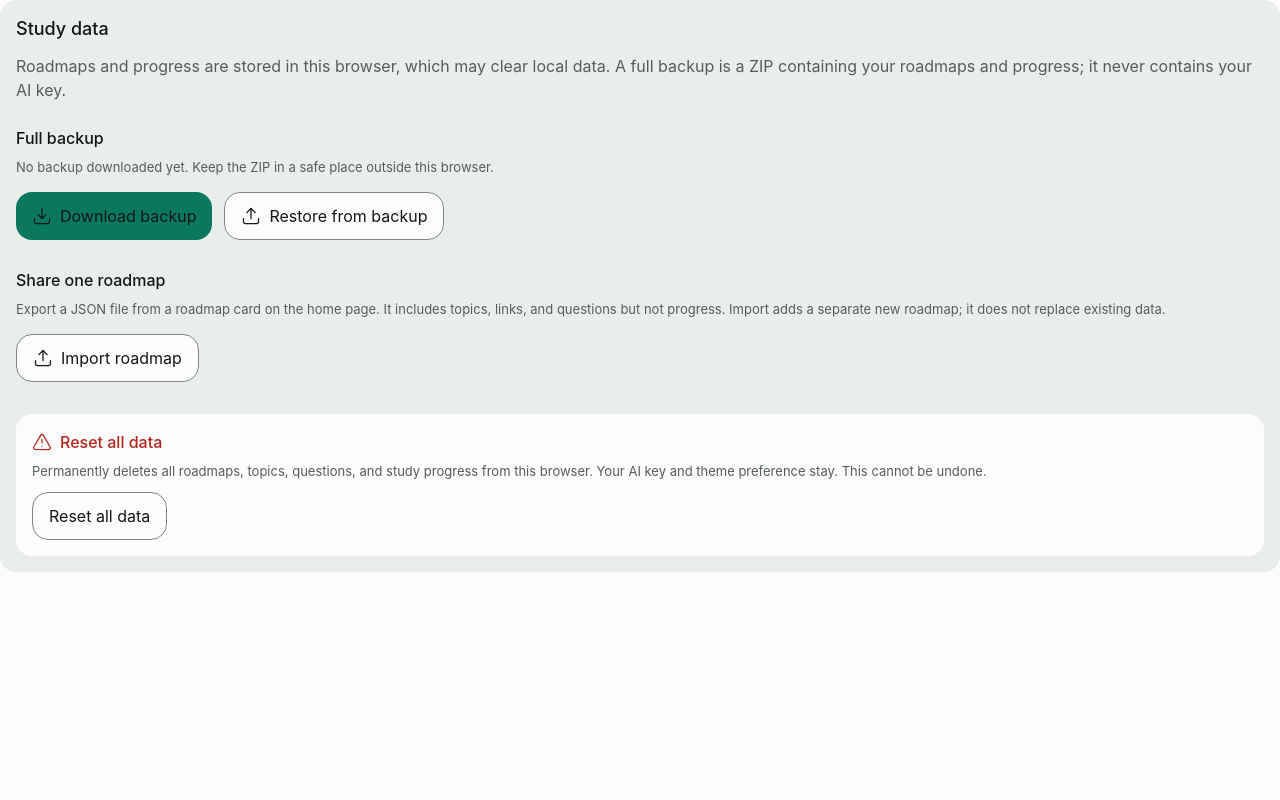
Test: SettingsPage › announces a backup failure and allows a retry
Click the button "Download backup": (114, 216) 16,192 -> 212,240
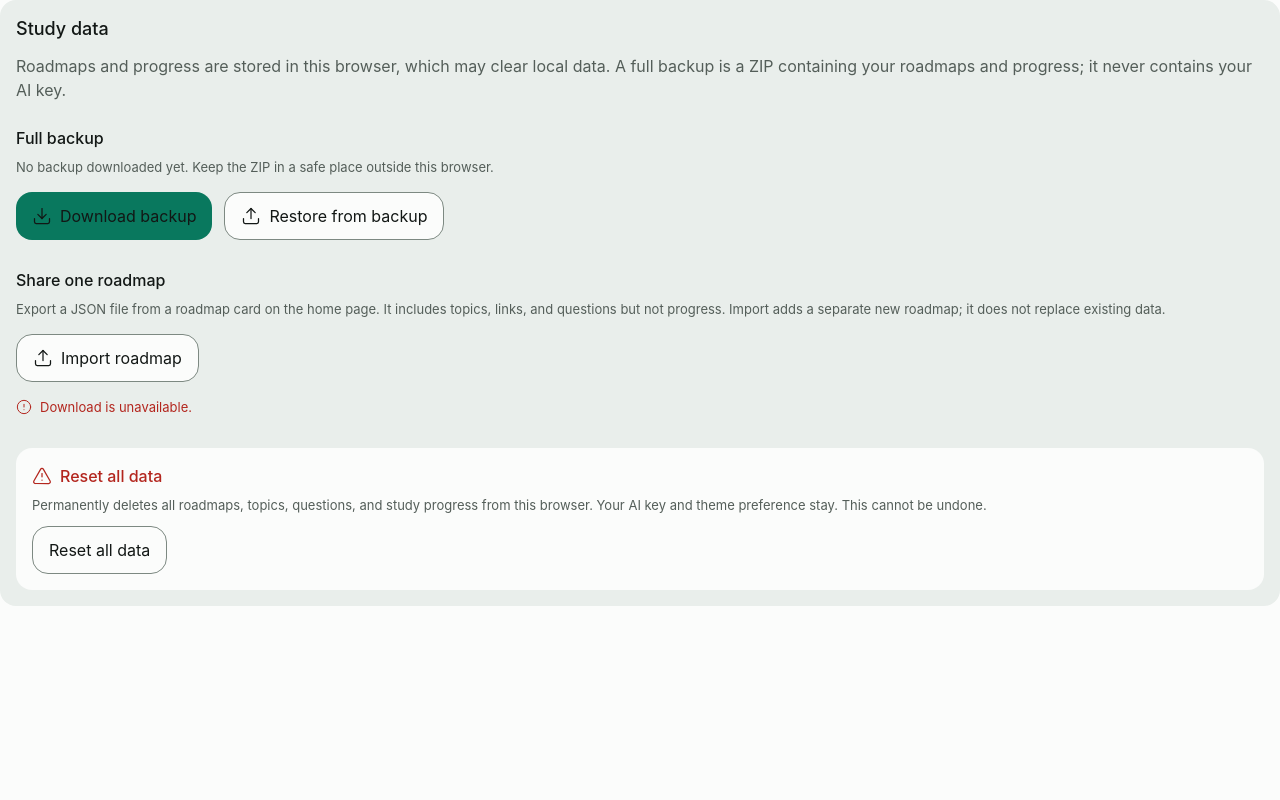
Now the message "Download is unavailable." is shown, box 16,399 -> 192,415
